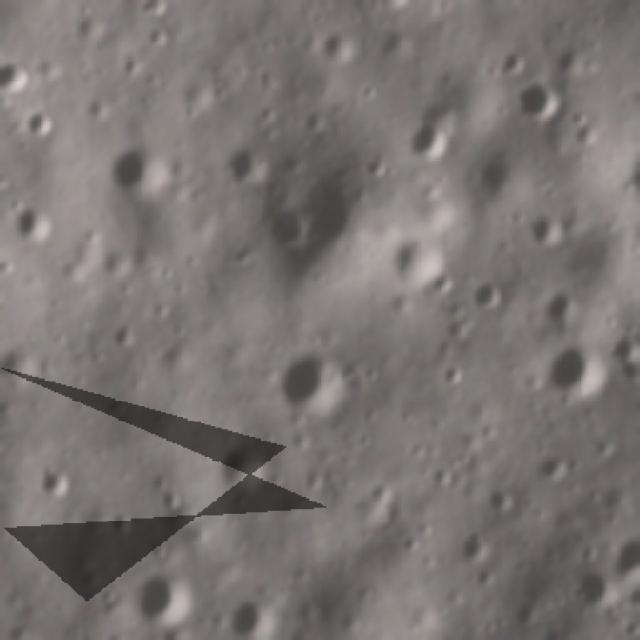crater: (280, 348, 346, 410), (545, 338, 607, 398), (126, 579, 202, 624), (110, 146, 173, 188), (398, 242, 452, 290), (518, 79, 568, 130), (232, 601, 285, 637), (270, 204, 310, 247), (228, 454, 272, 492), (404, 124, 448, 161), (34, 457, 68, 500), (533, 293, 578, 325), (578, 566, 612, 608), (474, 268, 506, 310), (153, 481, 190, 517), (0, 56, 31, 93), (522, 216, 555, 250), (15, 212, 47, 246), (26, 103, 51, 145)
